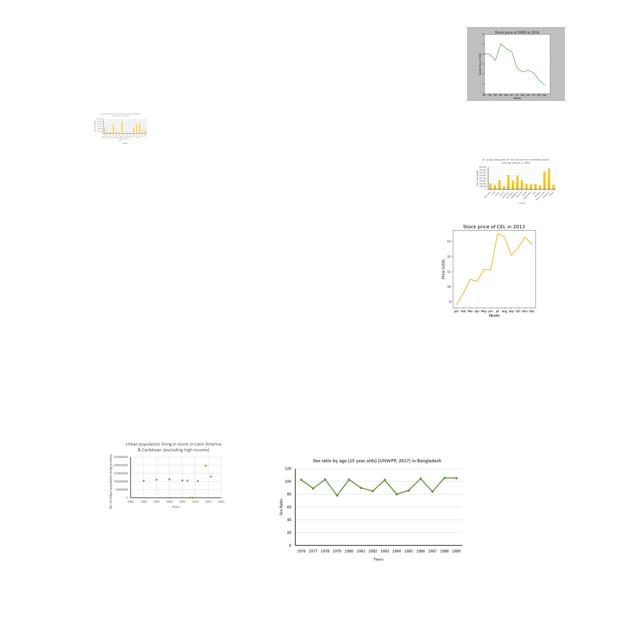Graph: (275, 453, 466, 563), (425, 218, 560, 319), (106, 440, 227, 511), (467, 27, 565, 101), (474, 157, 558, 207), (93, 112, 148, 145)
